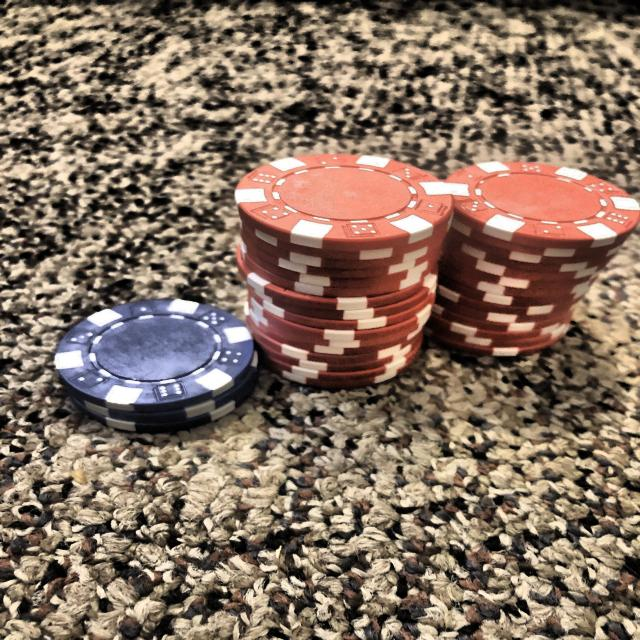Chip: (228, 136, 468, 400), (419, 124, 630, 383), (47, 273, 275, 449)
